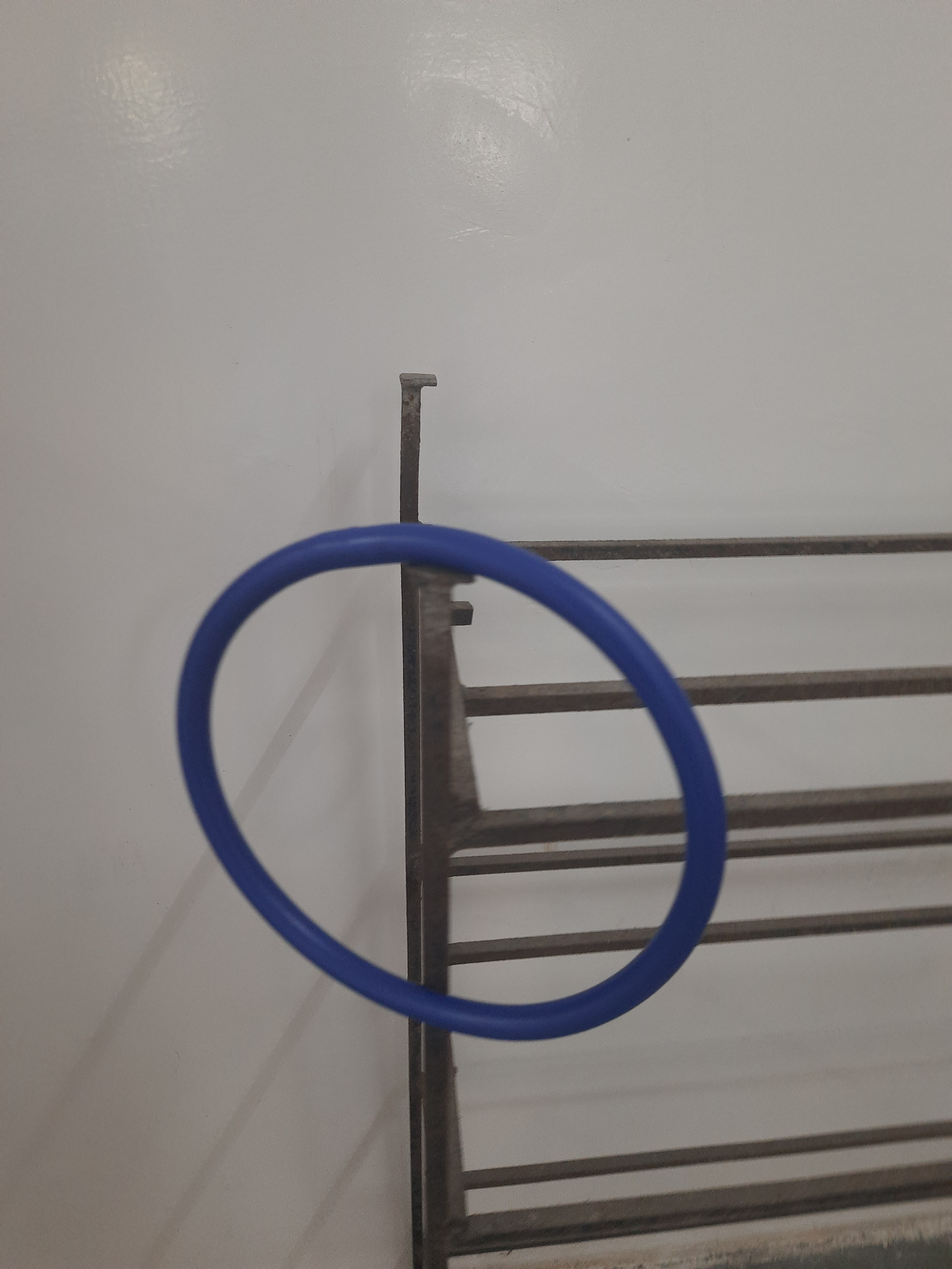Blue ring: (169, 526, 732, 1041)
